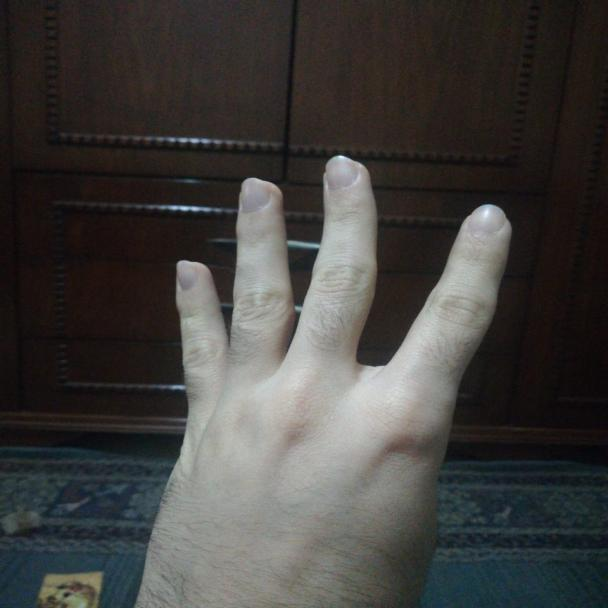four: (136, 146, 522, 604)
